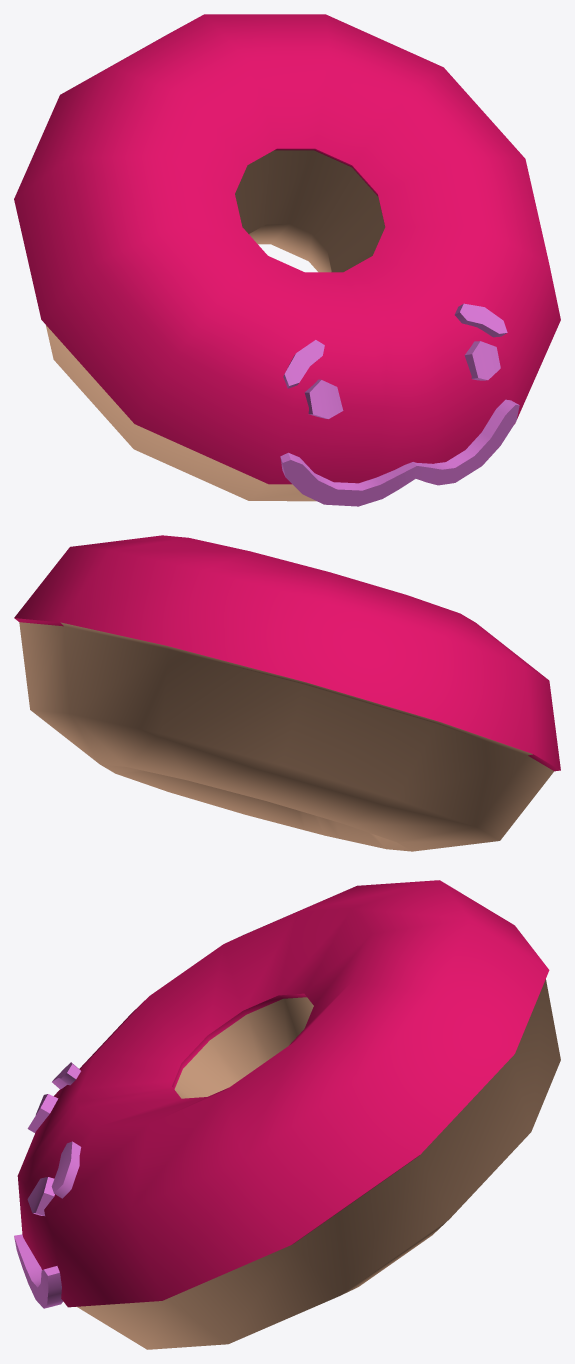
The model's file is minidonut.fbx.
3 views of the same model, one above another, from view 1: azimuth 30°, elevation 25°; view 2: azimuth 150°, elevation 25°; view 3: azimuth 270°, elevation 25° (orthographic). The views are drawn at different scales.
Parts seen in each view (by area): view 1: Torus; view 2: Torus; view 3: Torus.
Boxes of the visible parts, bbox=[...] form: Torus: bbox=[14, 14, 560, 506]; Torus: bbox=[14, 535, 560, 851]; Torus: bbox=[14, 880, 560, 1349].
Bounding box in the file's own units: 182 × 129 × 163.
